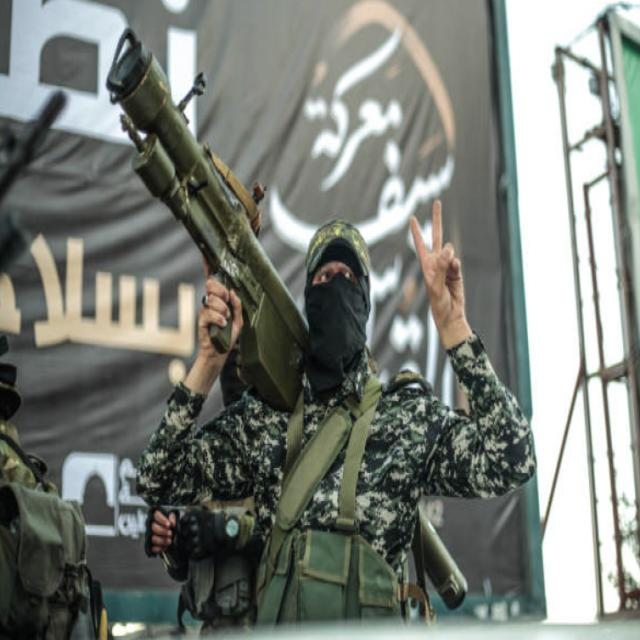bazooka: (96, 23, 489, 640)
